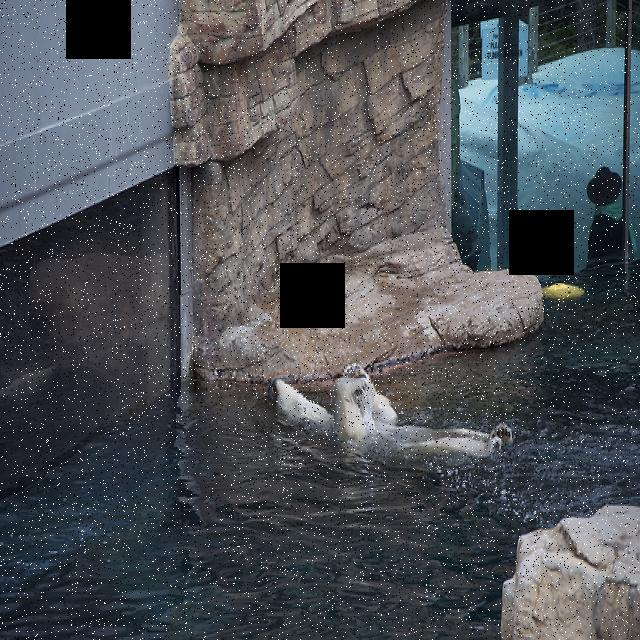Bear: (263, 360, 531, 484)
